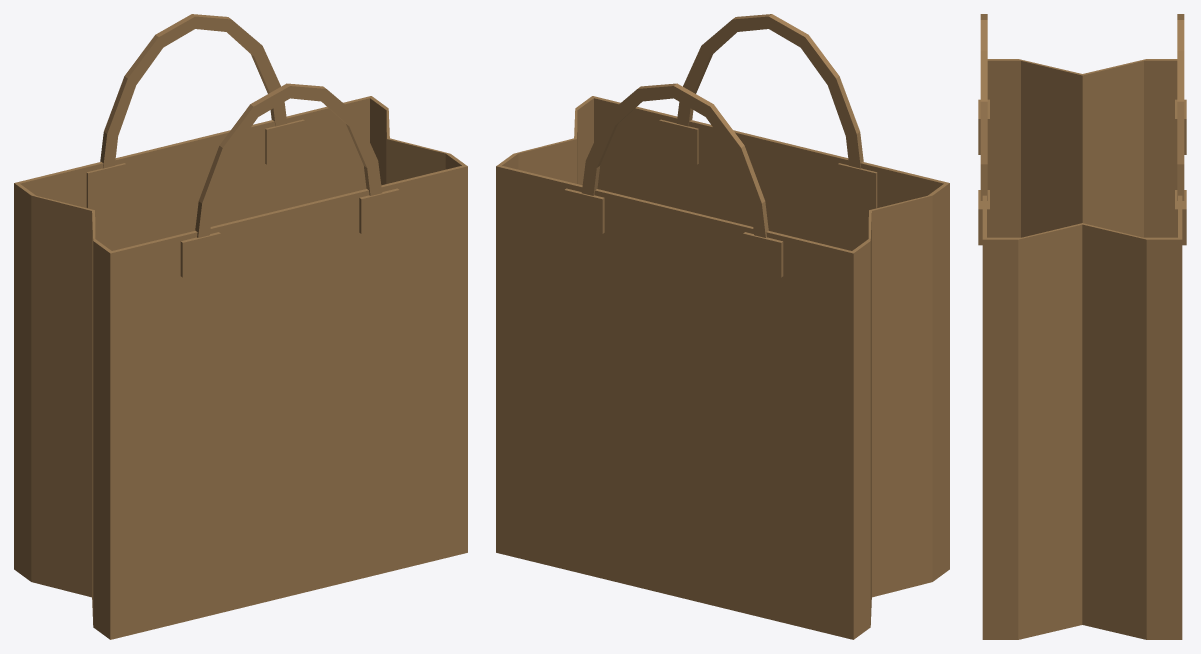
File: NEW_RECOVERY_115_LOD2.glb
The picture shows the model from 3 angles, left to right: view 1: azimuth 30°, elevation 25°; view 2: azimuth 150°, elevation 25°; view 3: azimuth 270°, elevation 25°; orthographic projection. The views are drawn at different scales.
Visible parts, largest first — view 1: Shopping_bag_finished_shell; view 2: Shopping_bag_finished_shell; view 3: Shopping_bag_finished_shell.
Part boxes in pixels (box(x1,y1,x2,y2)): Shopping_bag_finished_shell: box(14, 14, 467, 639); Shopping_bag_finished_shell: box(496, 14, 949, 639); Shopping_bag_finished_shell: box(978, 14, 1186, 639).
Size of the model in its own units: 0.3 by 0.41 by 0.146.
